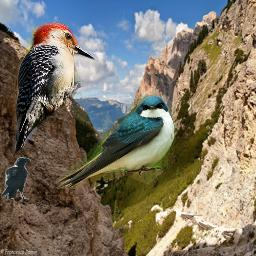Crow: (1, 157, 31, 200)
Swallow: (56, 95, 176, 189)
Woodpecker: (15, 22, 99, 153)
